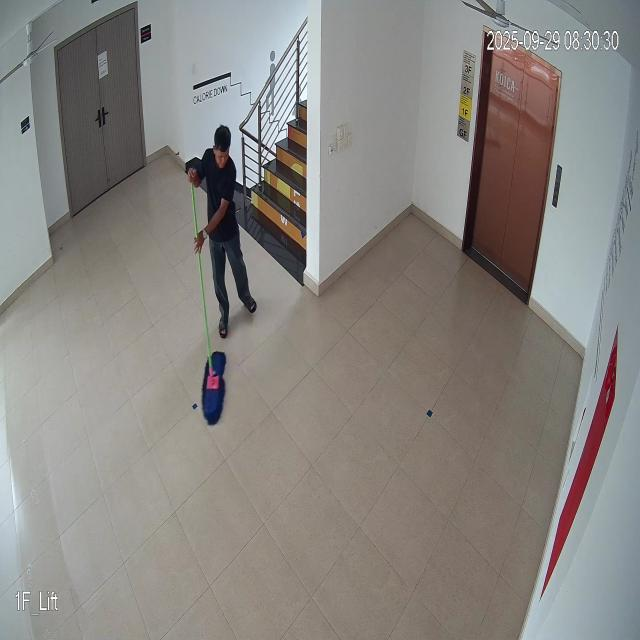face: (212, 123, 233, 177)
